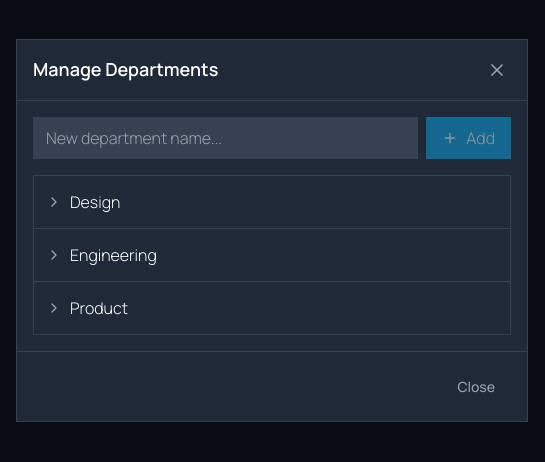
Test: ManageDepartmentsModal › user list functionality › shows loading state while fetching users
Click the text "Engineering" at (113,254), box top-left (70, 242), bottom-right (157, 266)
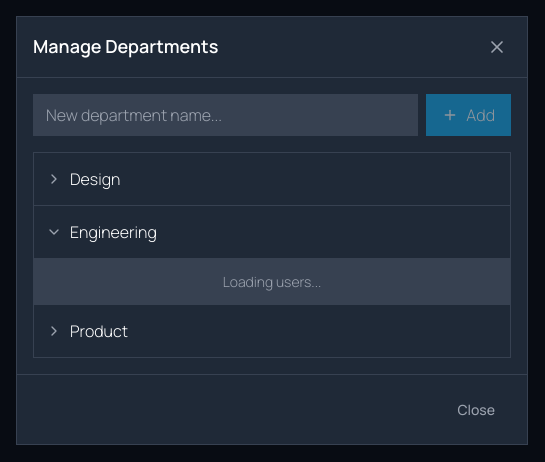
Expected: the text "Loading users..." is shown, top-left (223, 272), bottom-right (321, 290)
